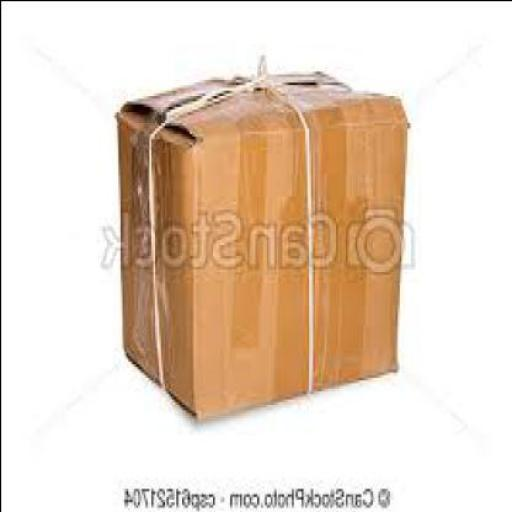cardboard: (123, 68, 410, 417)
